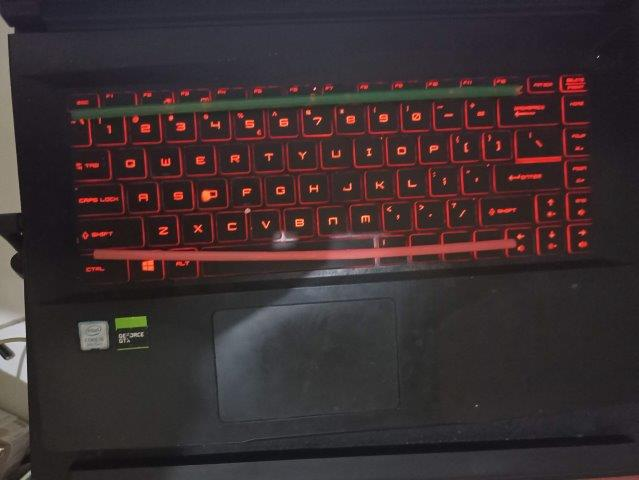sedotan: (72, 87, 516, 119), (94, 239, 517, 261)
